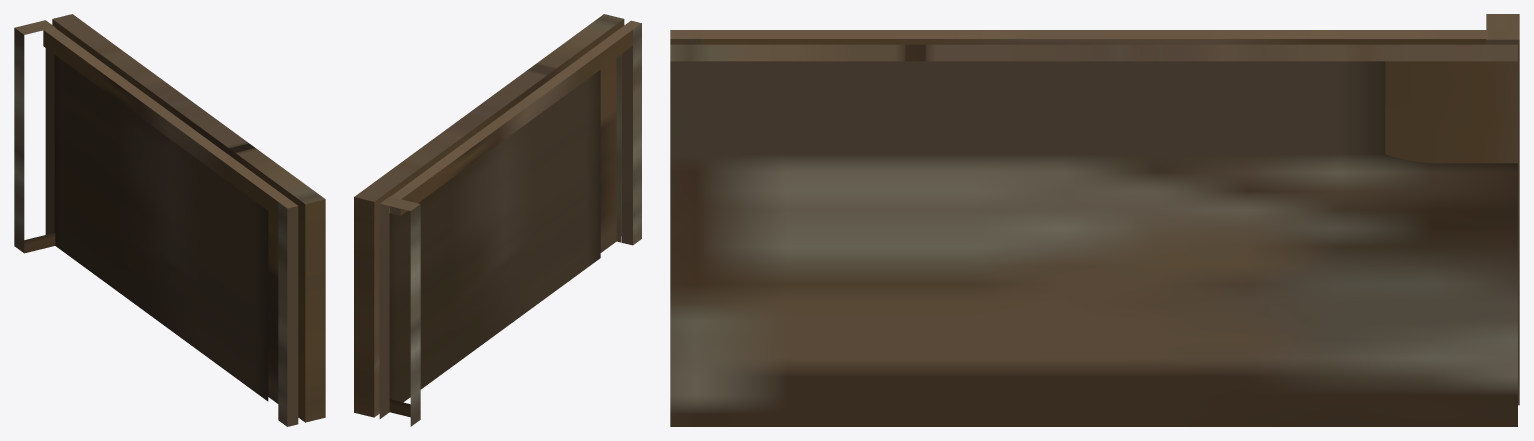
The model's file is section-6.obj.
3 renders of one model, left to right at view 1: azimuth 30°, elevation 25°; view 2: azimuth 150°, elevation 25°; view 3: azimuth 270°, elevation 25°, orthographic. The views are drawn at different scales.
Bounding box in the file's own units: 0.1697 × 0.6132 × 1.29.
